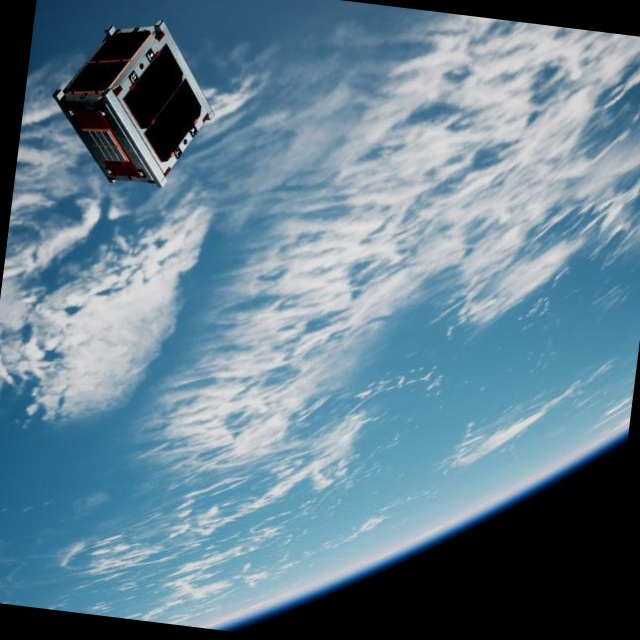satellite: (44, 0, 231, 196)
